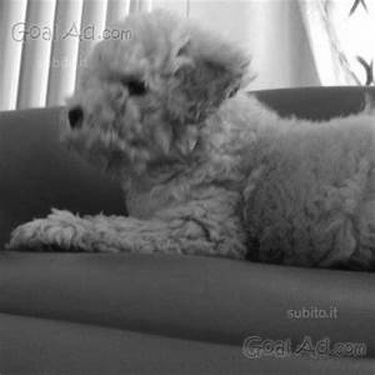dog: (2, 4, 372, 283)
